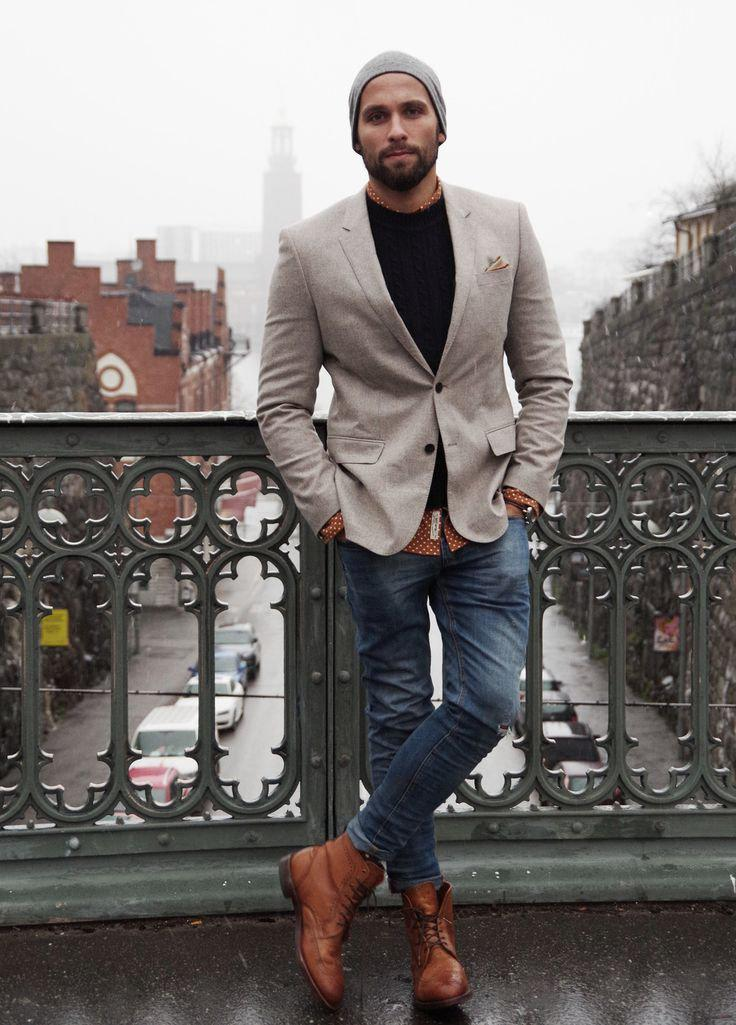Sober: (357, 74, 436, 167)
